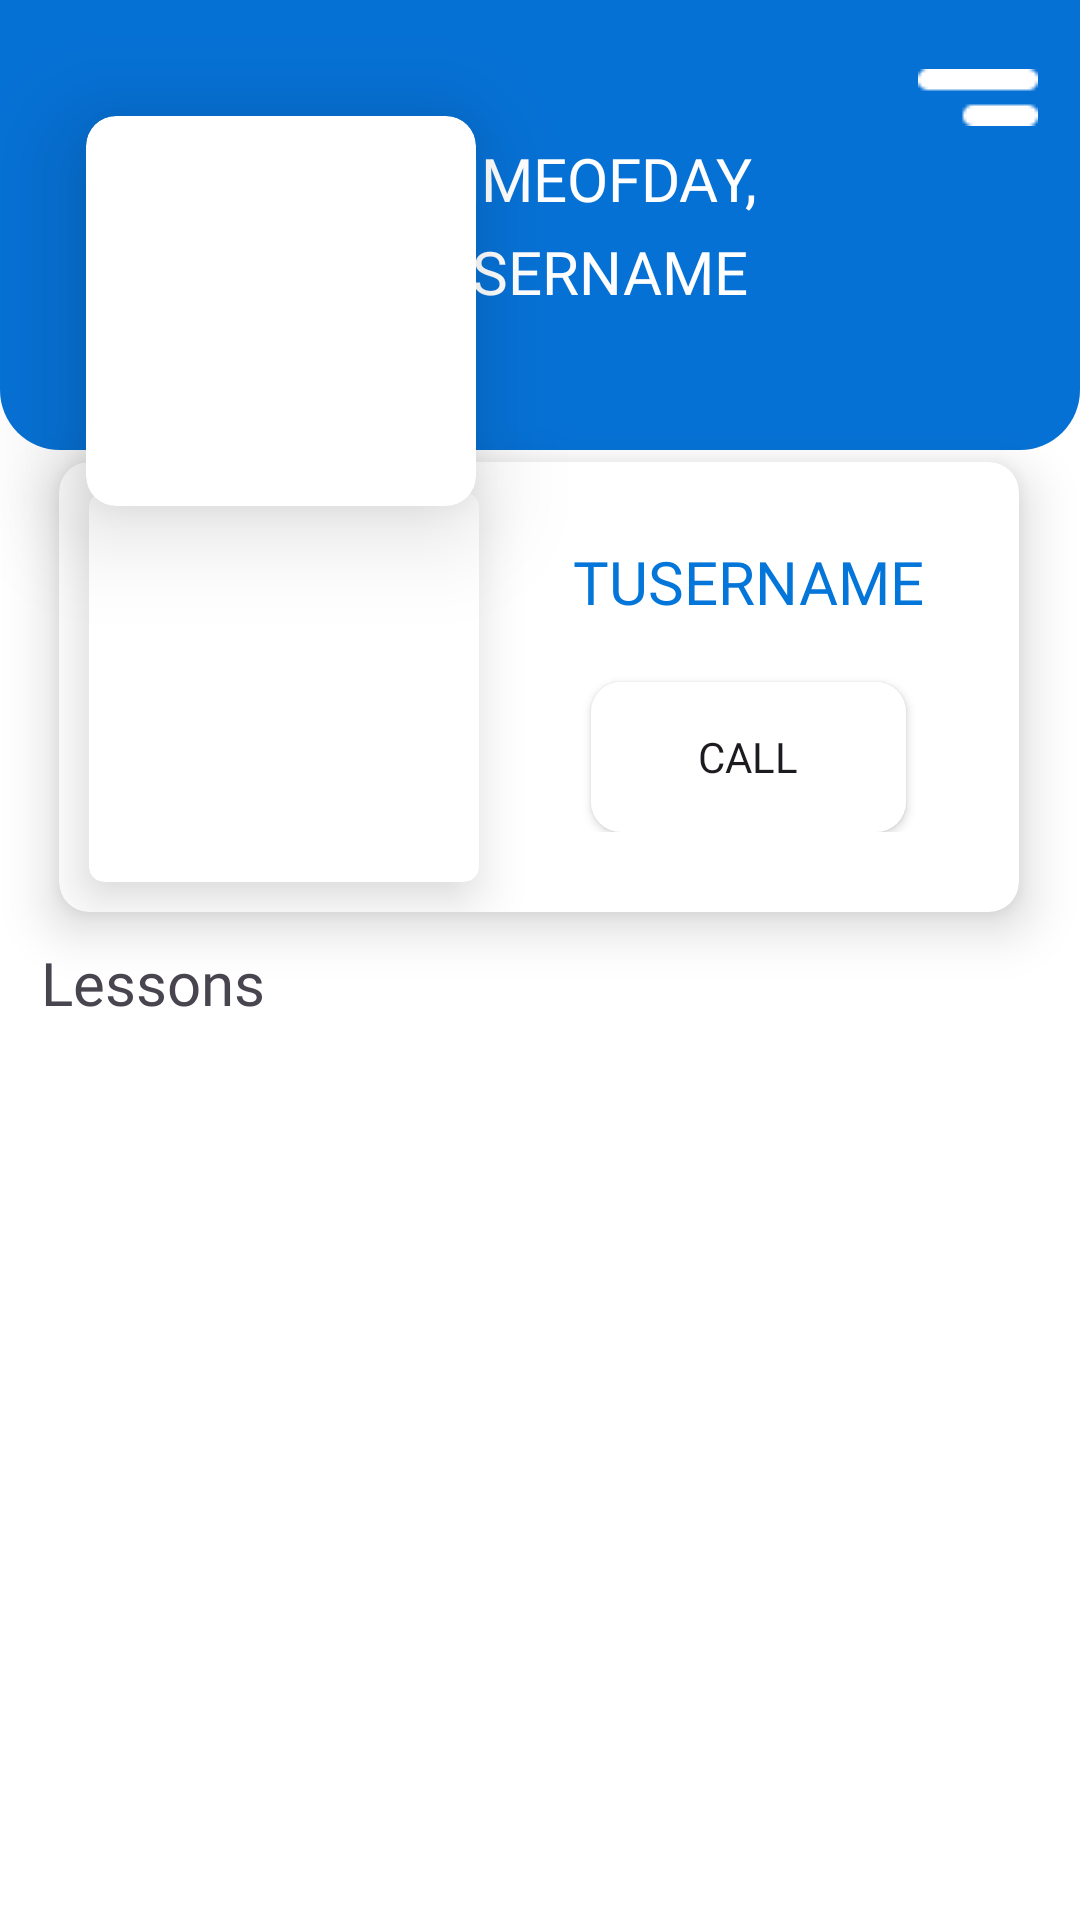

Named icons in this screenshot (1080w x 1920h) and their bounding boxes, [x1,y1,x2,y2]:
hamburger: [918,69,1038,126]
